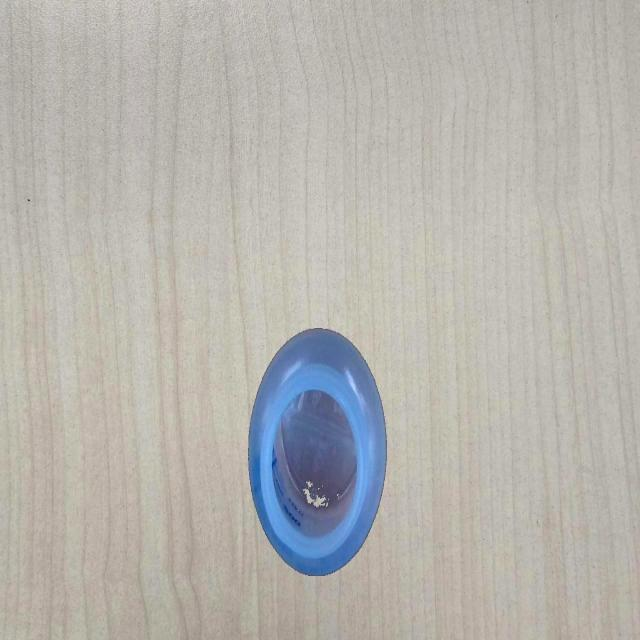bottle: (247, 324, 389, 578)
